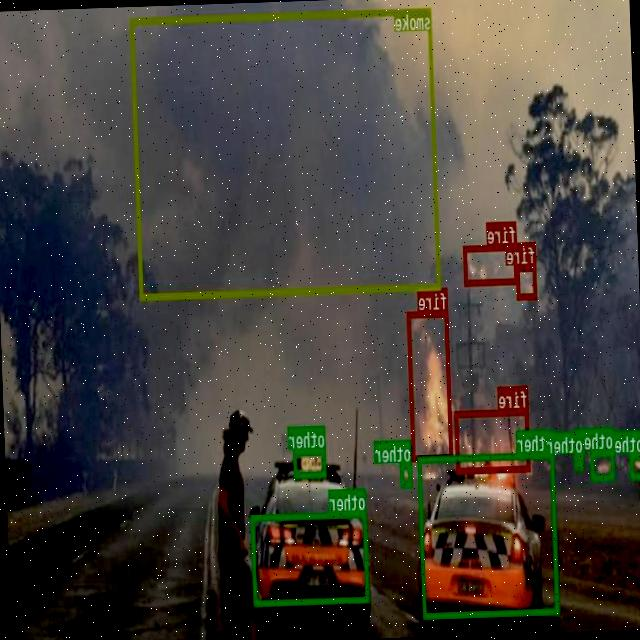fire: (408, 310, 453, 459), (456, 408, 530, 472), (464, 242, 518, 284), (516, 264, 538, 299)
smoke: (130, 7, 441, 298)
